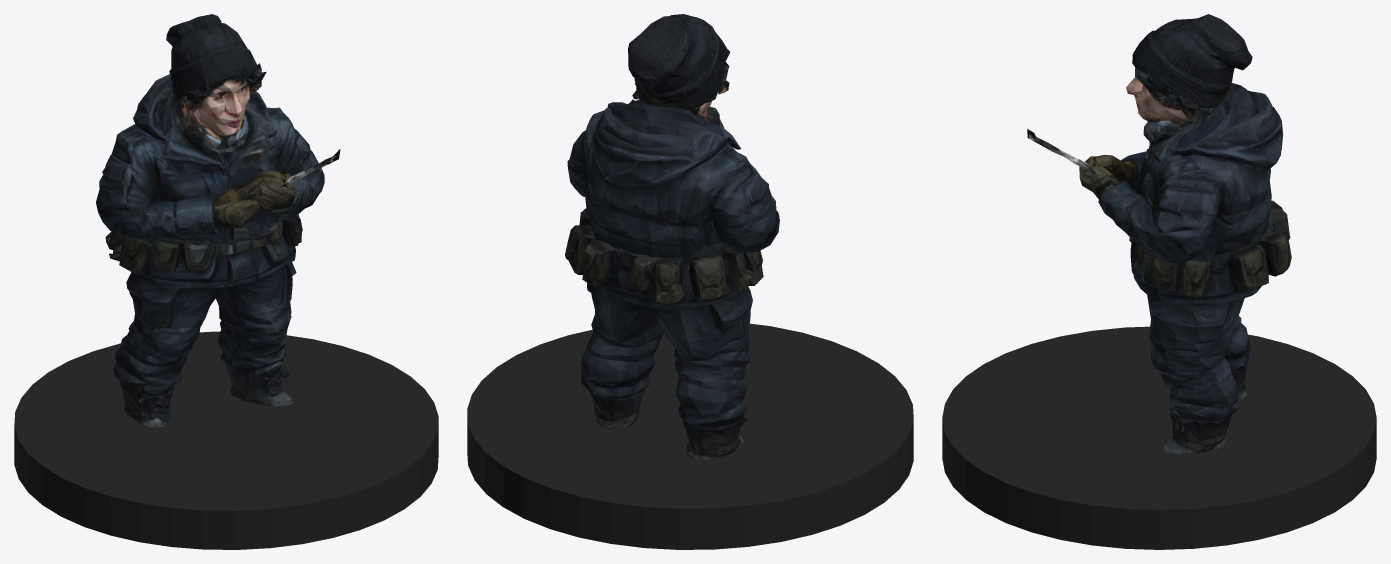
Rendered from carla-thompson.glb.
3 renders of one model, left to right at view 1: azimuth 30°, elevation 25°; view 2: azimuth 150°, elevation 25°; view 3: azimuth 270°, elevation 25°, orthographic. The views are drawn at different scales.
Parts seen in each view (by area): view 1: base, figure; view 2: base, figure; view 3: base, figure.
Boxes of the visible parts, left/top/right/bottom form: base: left=14, top=331, right=438, bottom=549; figure: left=96, top=14, right=340, bottom=427; base: left=467, top=323, right=913, bottom=549; figure: left=565, top=14, right=779, bottom=460; base: left=942, top=326, right=1376, bottom=549; figure: left=1027, top=14, right=1291, bottom=454.
Bounding box in the file's own units: 1.18 × 1.32 × 1.18.
Materials: 2 (1 with a texture image).
